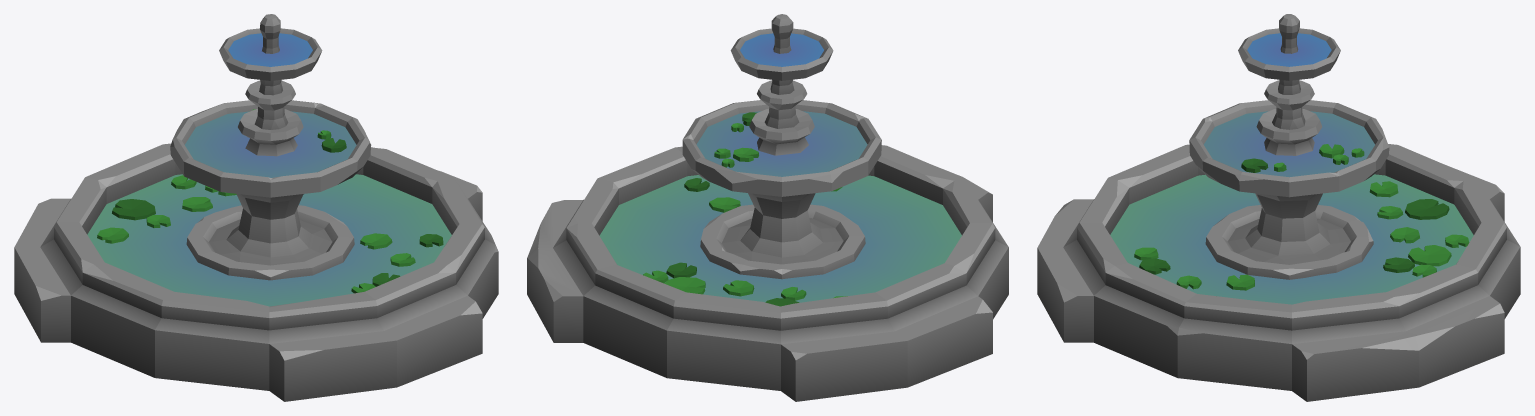
The model's file is fountain_01.fbx.
The picture shows the model from 3 angles, left to right: view 1: azimuth 30°, elevation 25°; view 2: azimuth 150°, elevation 25°; view 3: azimuth 270°, elevation 25°; orthographic projection.
Visible parts, largest first — view 1: Fountain_01.001; view 2: Fountain_01.001; view 3: Fountain_01.001.
Part boxes in pixels (x1,y1,x2,y2): Fountain_01.001: (14, 14, 498, 401); Fountain_01.001: (527, 14, 1008, 401); Fountain_01.001: (1037, 14, 1520, 401).
Size of the model in its own units: 4.9 by 2.95 by 4.65.
